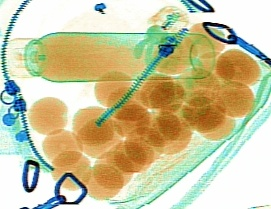pressure: (2, 30, 215, 80)
